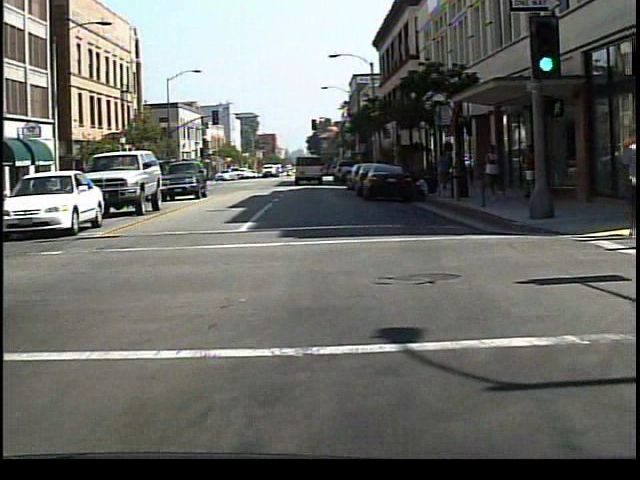person: (482, 139, 514, 208)
